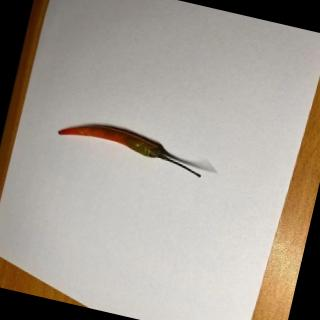Cabai Merah: (56, 116, 208, 178)
